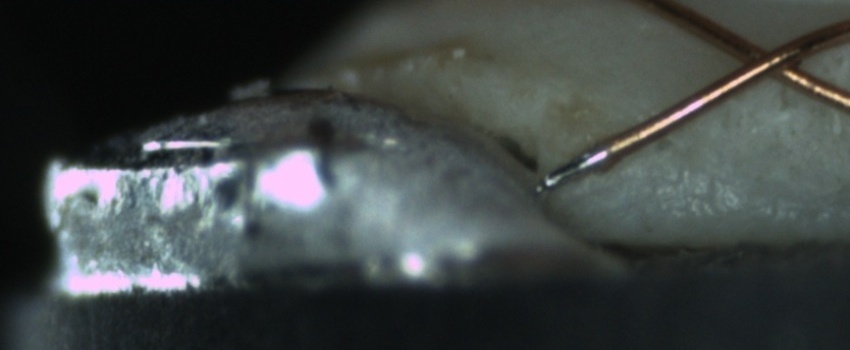CL: (717, 25, 823, 93)
TS: (542, 142, 613, 192)
TTCW: (538, 128, 625, 192)
